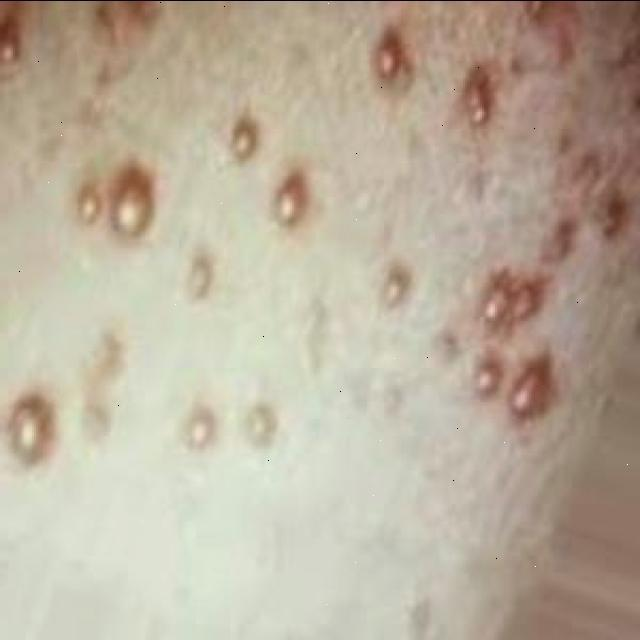Shingles: (0, 12, 618, 548)
